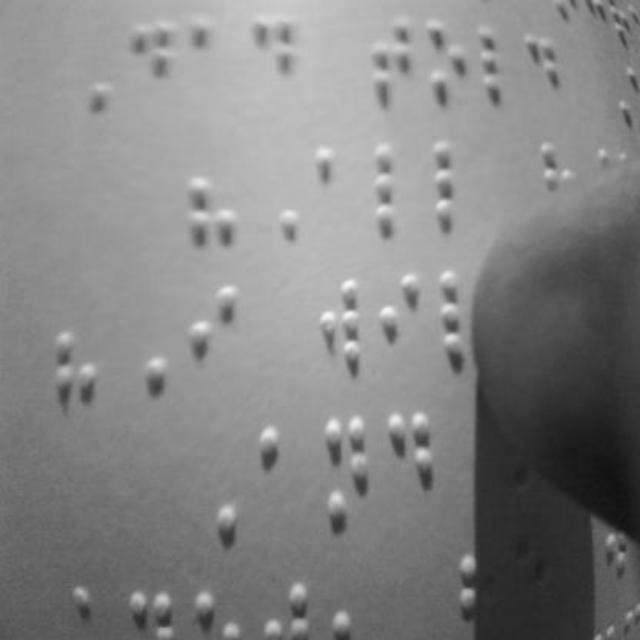braiile: (432, 266, 504, 372), (183, 278, 241, 394), (382, 410, 438, 526), (318, 413, 372, 525), (250, 426, 306, 534), (432, 136, 492, 232), (128, 10, 182, 114), (312, 275, 368, 375), (372, 272, 424, 378), (248, 8, 302, 108), (304, 143, 360, 239), (362, 5, 414, 105), (366, 142, 418, 235), (191, 7, 241, 103), (422, 5, 468, 105), (472, 13, 520, 102)
